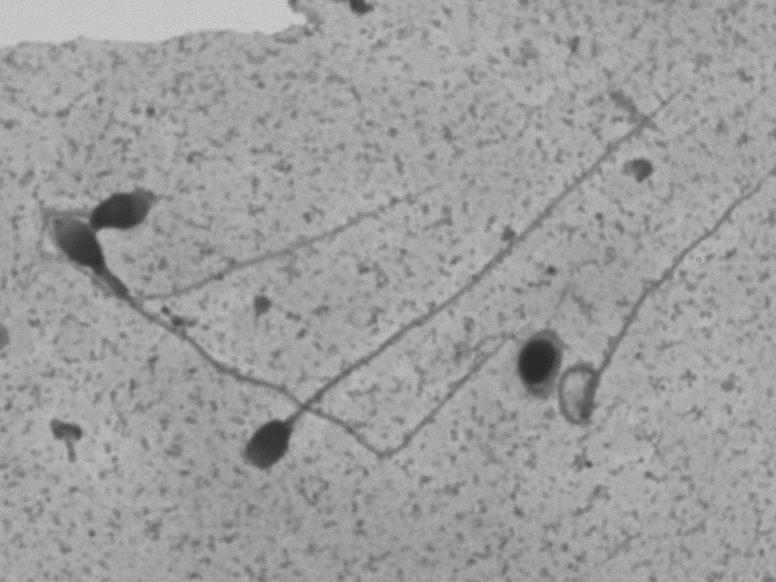Abnormal: (503, 310, 566, 421)
Normal: (228, 74, 704, 477)
